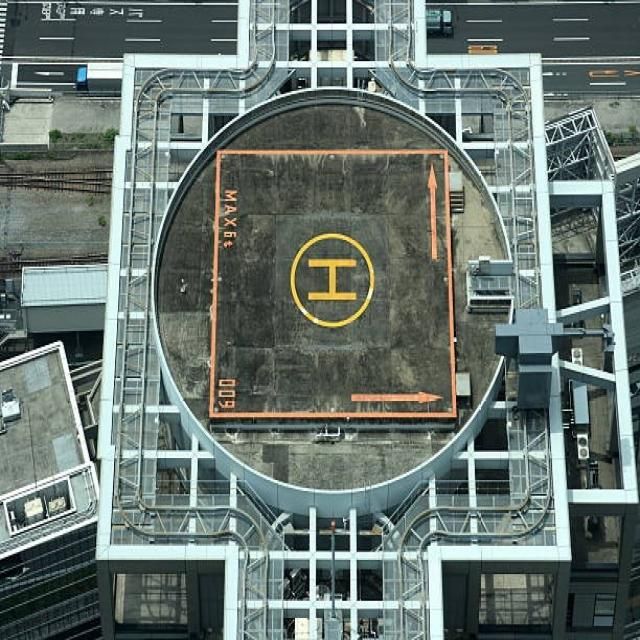helipad: (286, 226, 374, 331)
